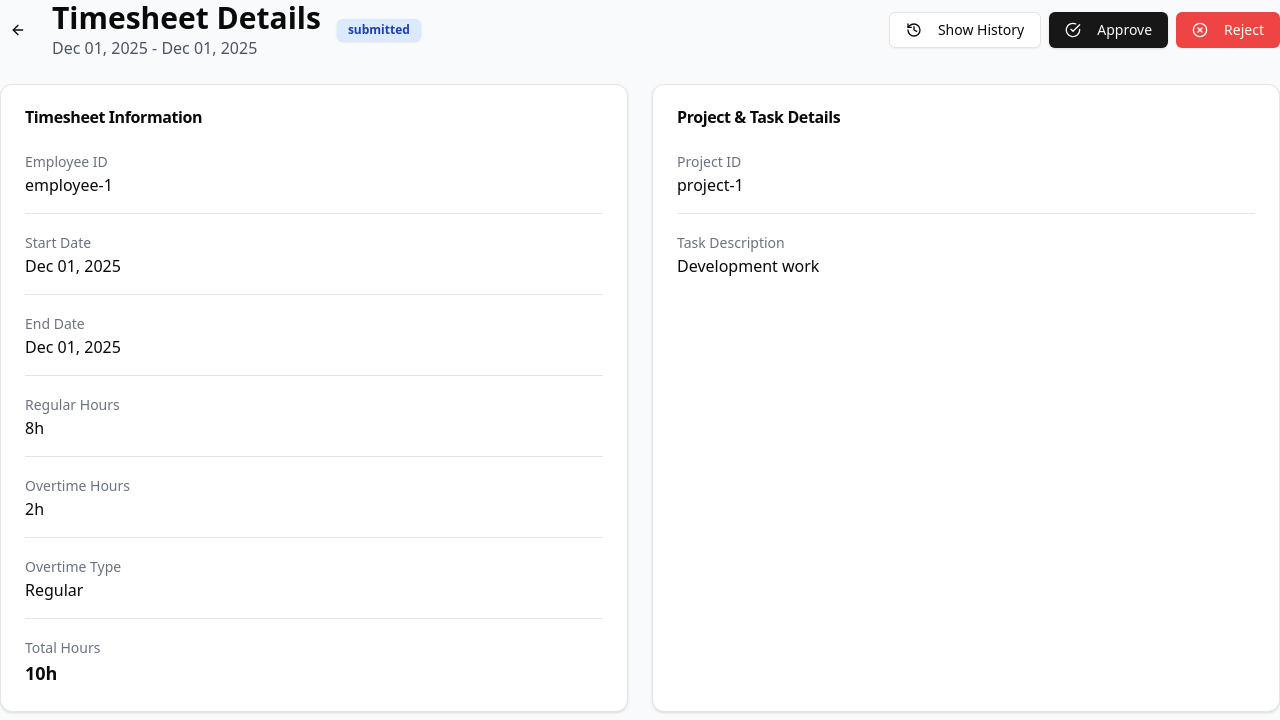
Test: TimesheetDetail › should open approve dialog on approve click
Click the button "Approve" at (1109, 30), box x1=1049 y1=12 x2=1168 y2=48
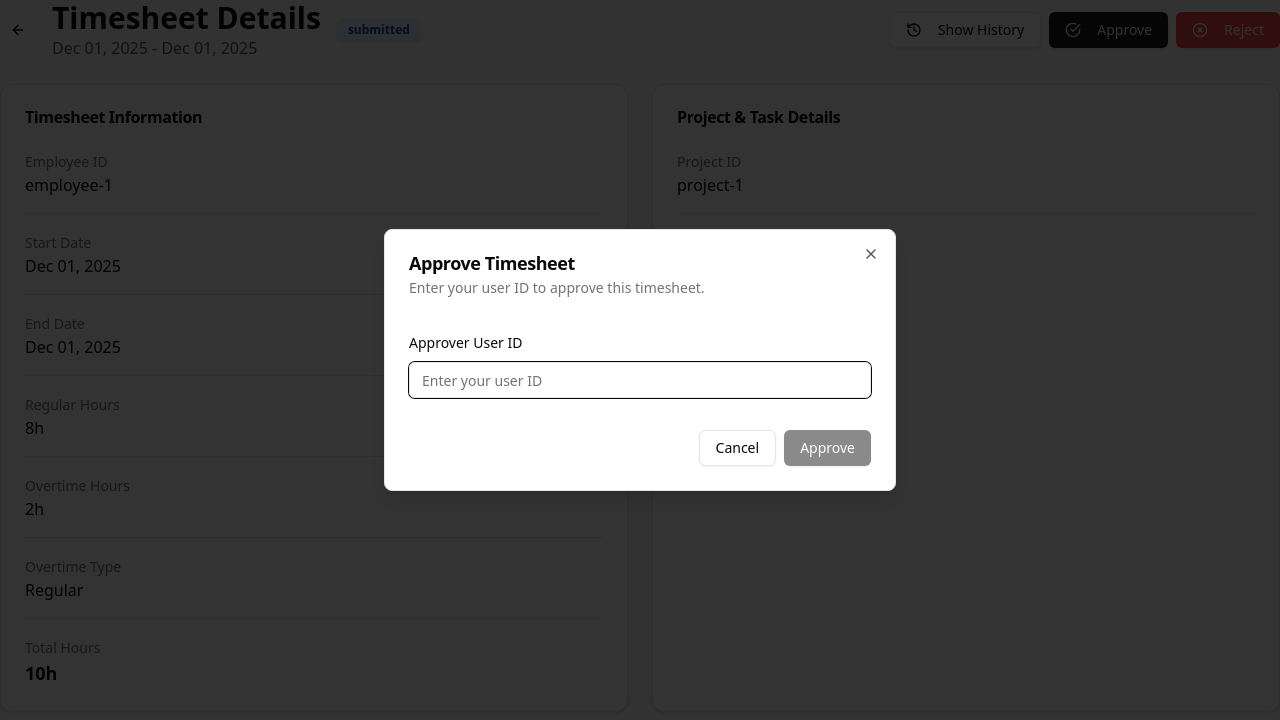
Now the heading "Approve Timesheet" is shown, box x1=409 y1=251 x2=575 y2=275
Now the field labelled "Approver User ID" is shown, box x1=409 y1=362 x2=871 y2=398
